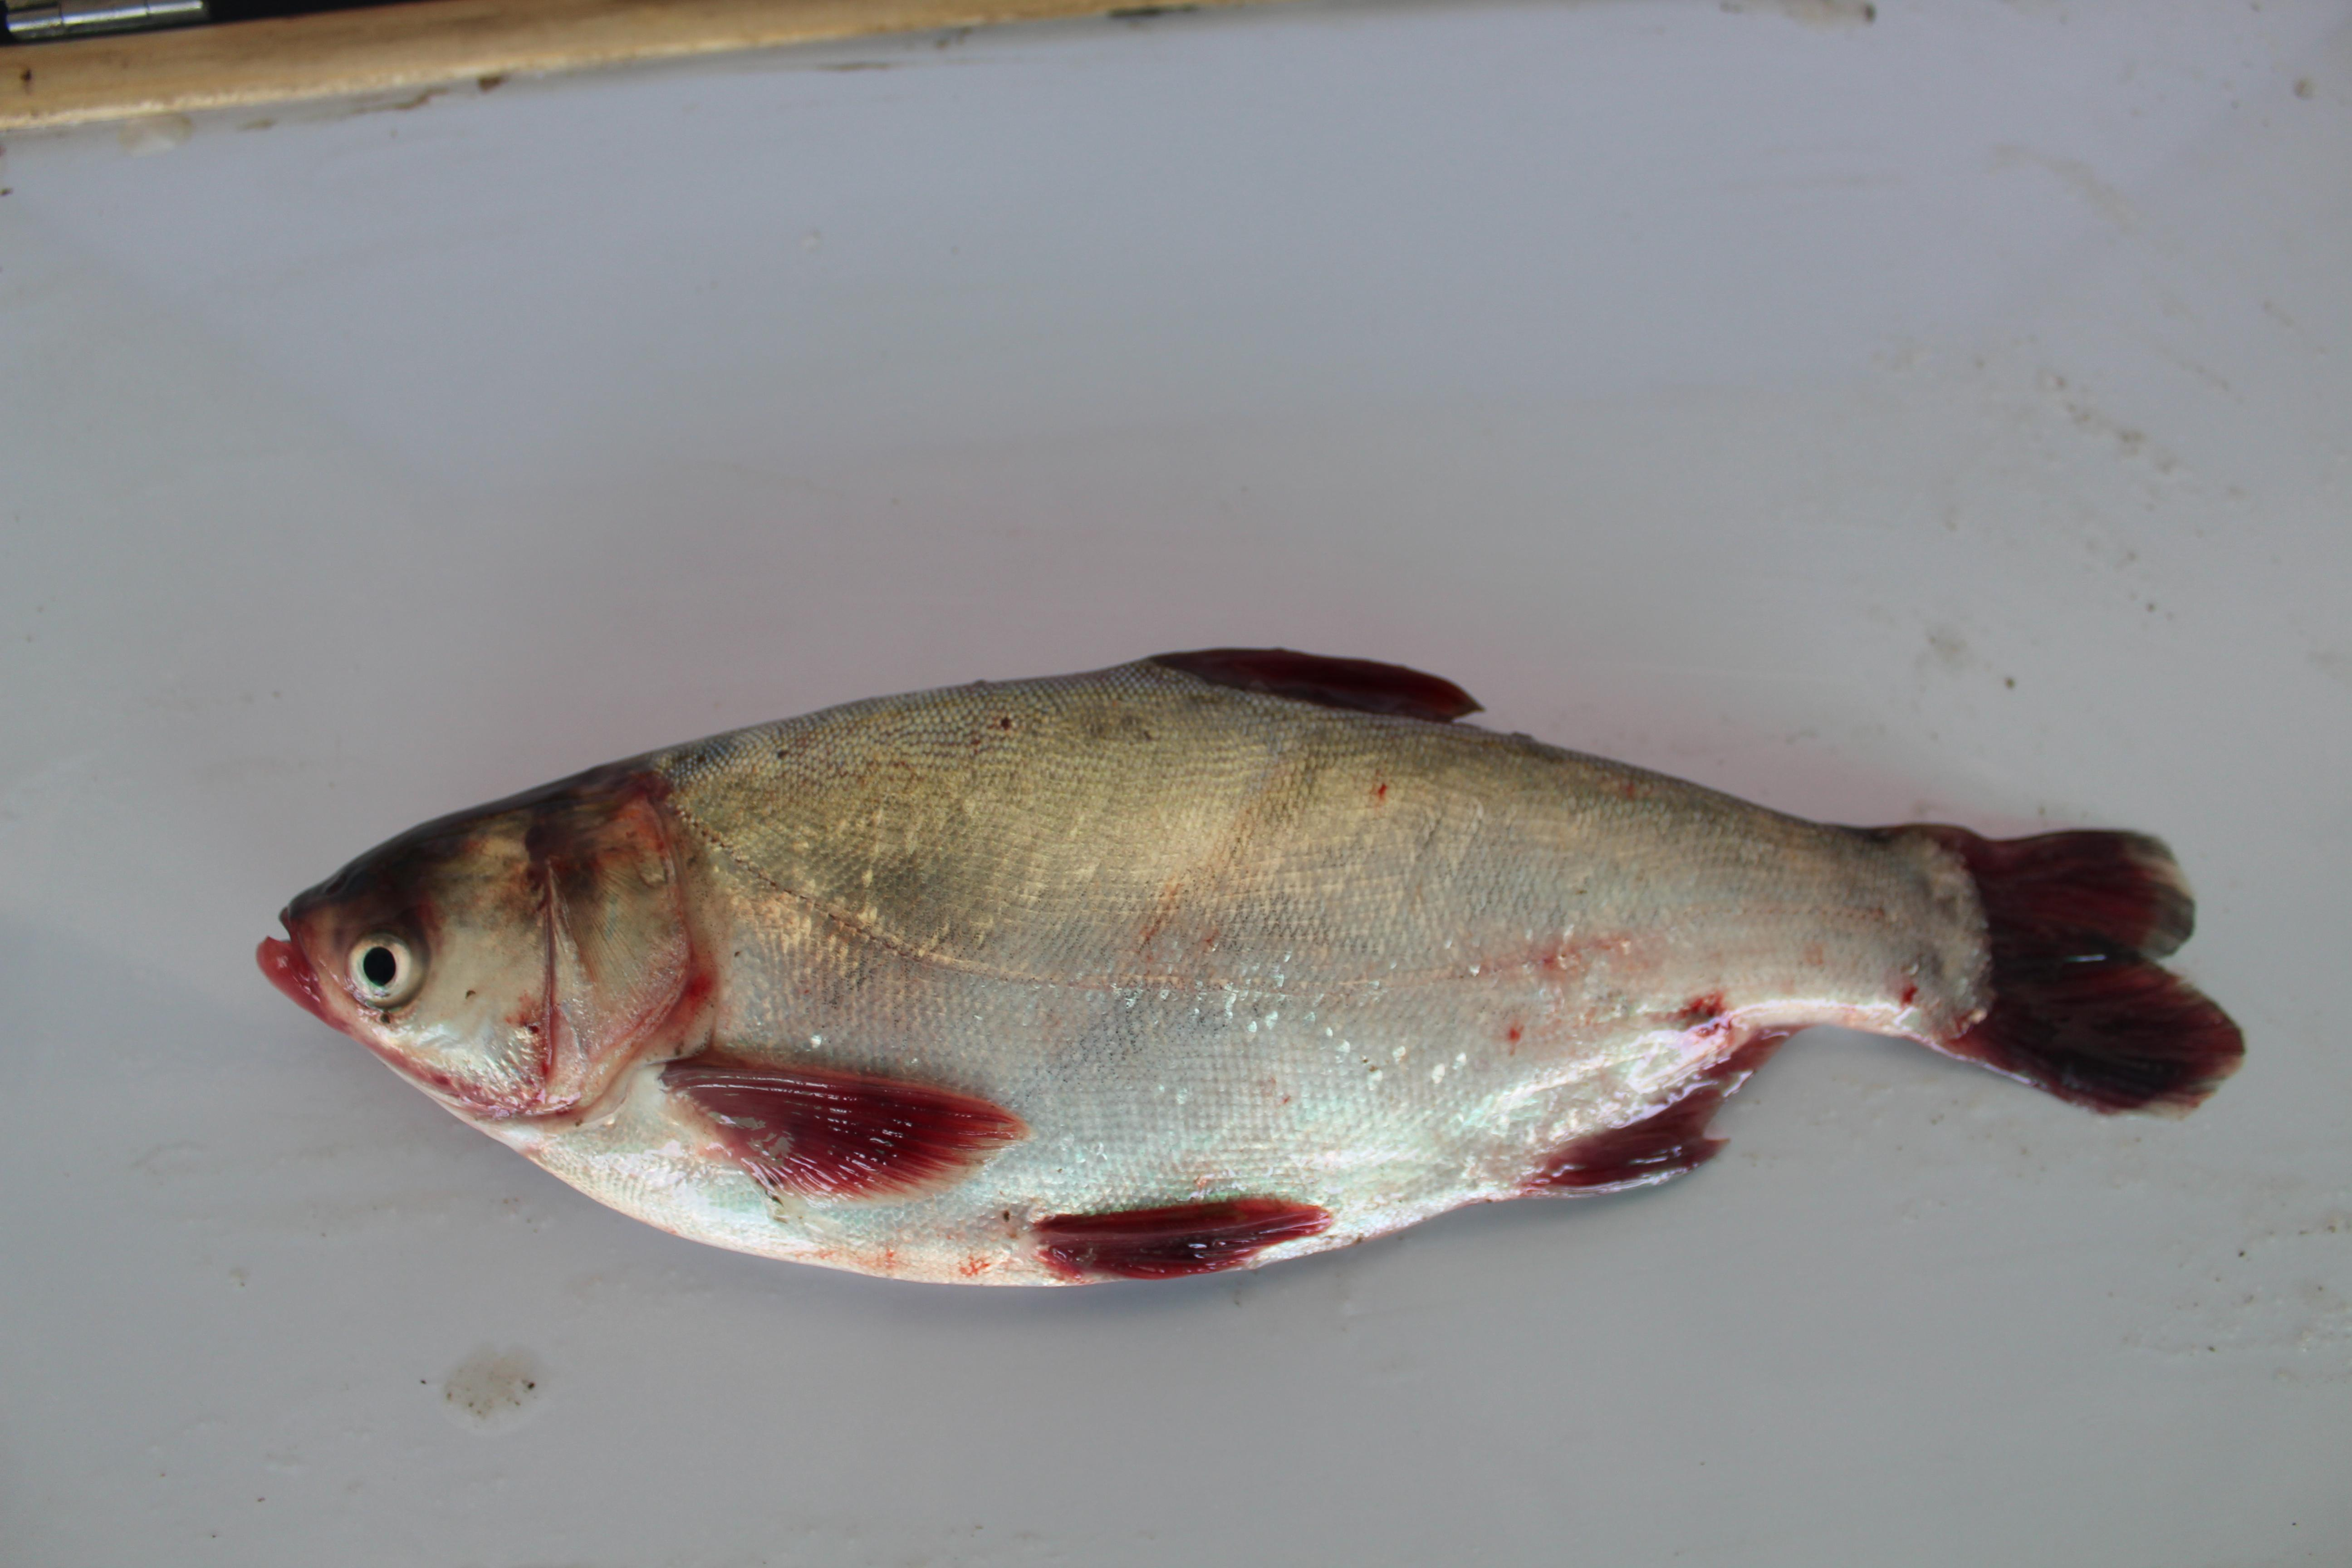Silver Carp: (269, 635, 2242, 1288)
